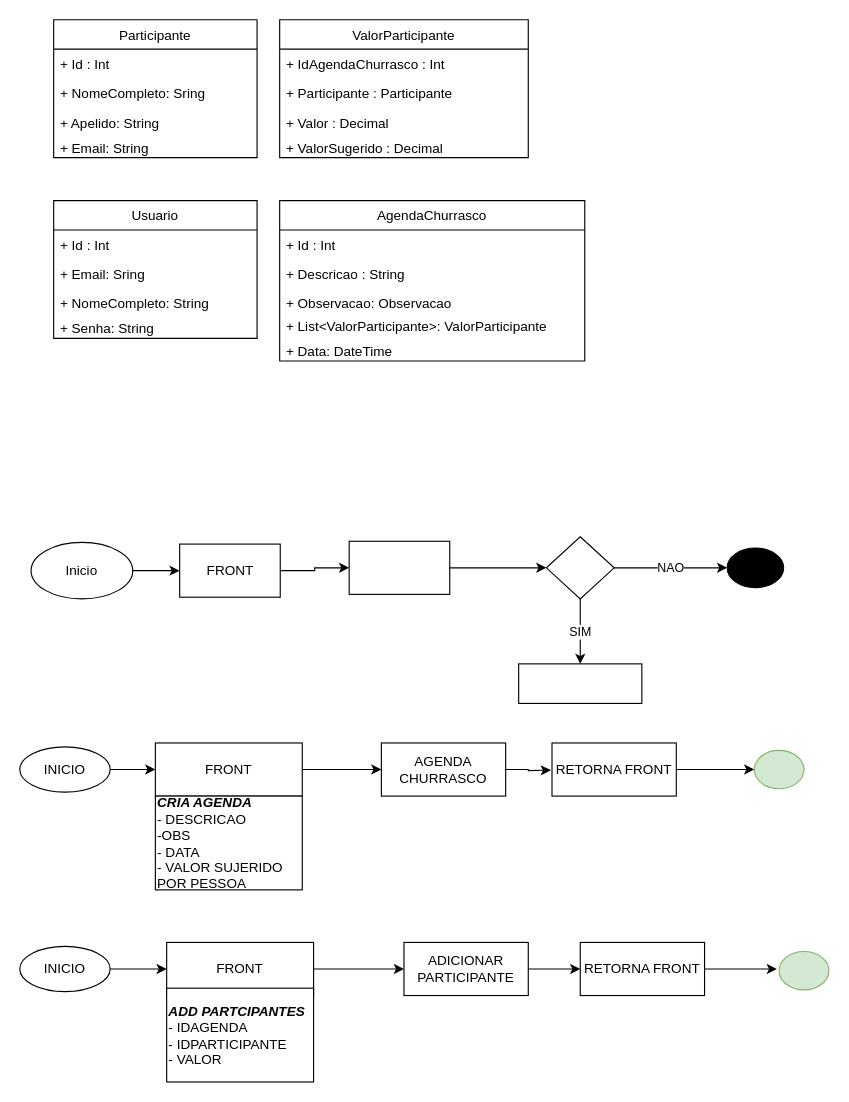
Some shapes in this 849 by 1102 pixel diagram are drawn without their labels. Each missing label, with the centre of its shape:
Login: the point at 399,567
RETORNA JWT: the point at 580,683
